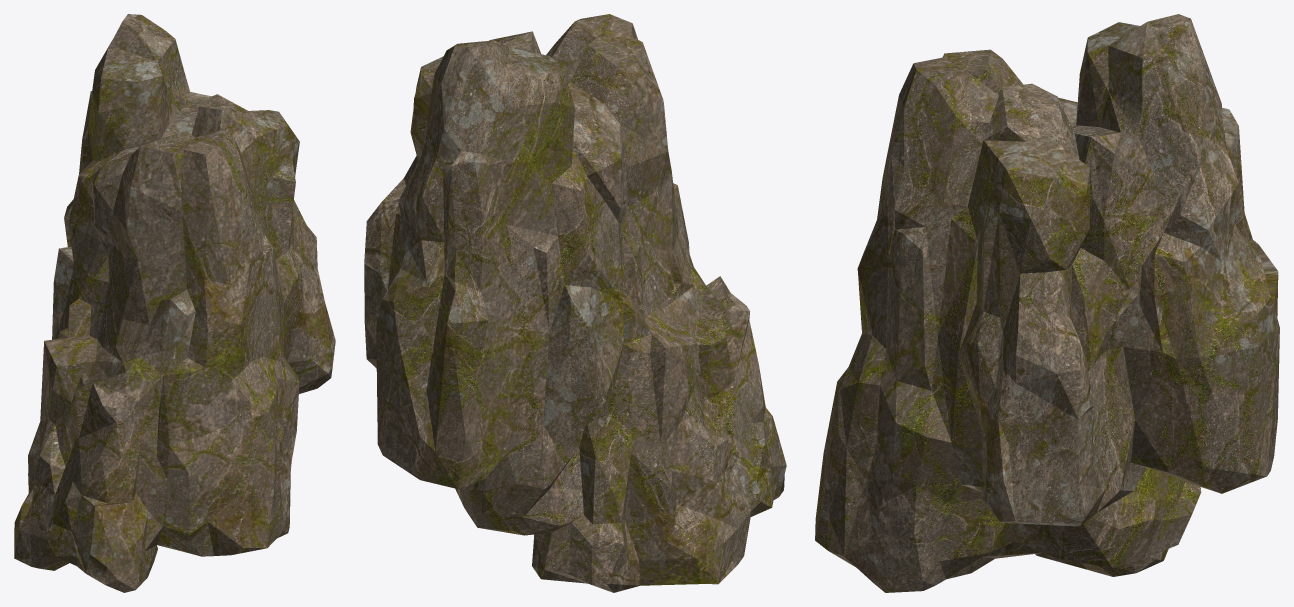
Rendered from bg_anh_delphic_rock01_04_sm_old.FBX.
The picture shows the model from 3 angles, left to right: view 1: azimuth 30°, elevation 25°; view 2: azimuth 150°, elevation 25°; view 3: azimuth 270°, elevation 25°; orthographic projection. The views are drawn at different scales.
Visible parts, largest first — view 1: bg_anh_delphic_rock01_04_sm_old; view 2: bg_anh_delphic_rock01_04_sm_old; view 3: bg_anh_delphic_rock01_04_sm_old.
Boxes of the visible parts, left/top/right/bottom form: bg_anh_delphic_rock01_04_sm_old: left=14, top=14, right=335, bottom=592; bg_anh_delphic_rock01_04_sm_old: left=364, top=14, right=786, bottom=592; bg_anh_delphic_rock01_04_sm_old: left=815, top=14, right=1279, bottom=592.
Size of the model in its own units: 364 by 540 by 383.
